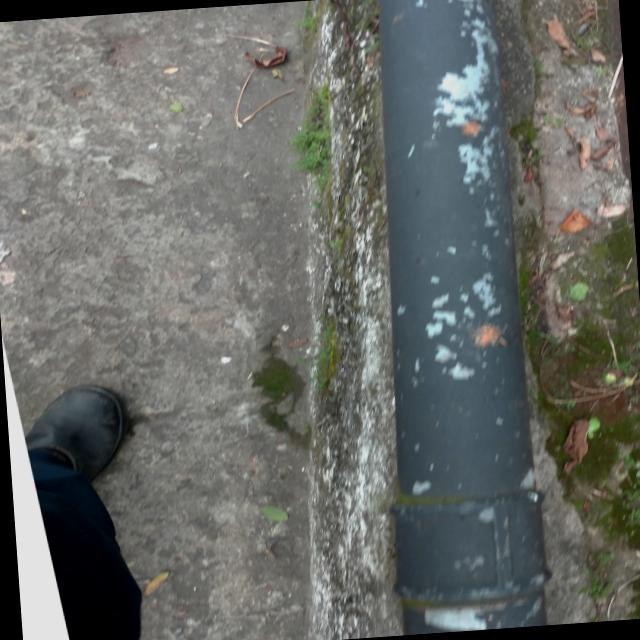gas: (352, 0, 547, 635)
